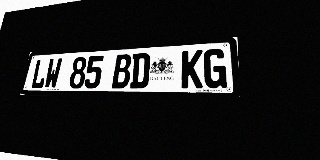5: (84, 55, 104, 88)
8: (68, 56, 88, 89)
B: (112, 54, 132, 88)
D: (130, 53, 151, 88)
G: (204, 48, 227, 88)
K: (181, 50, 203, 88)
L: (30, 59, 49, 89)
W: (43, 58, 63, 89)
